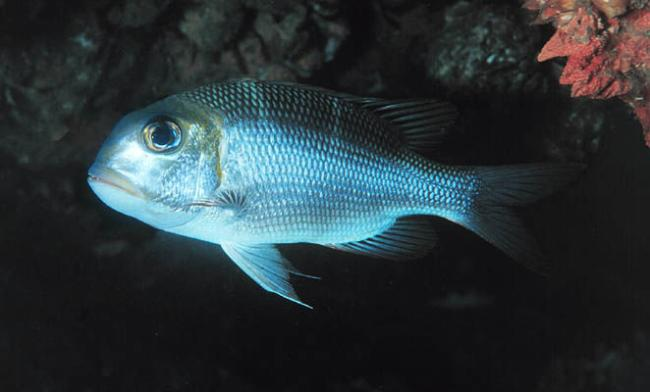fish: (86, 79, 586, 310)
